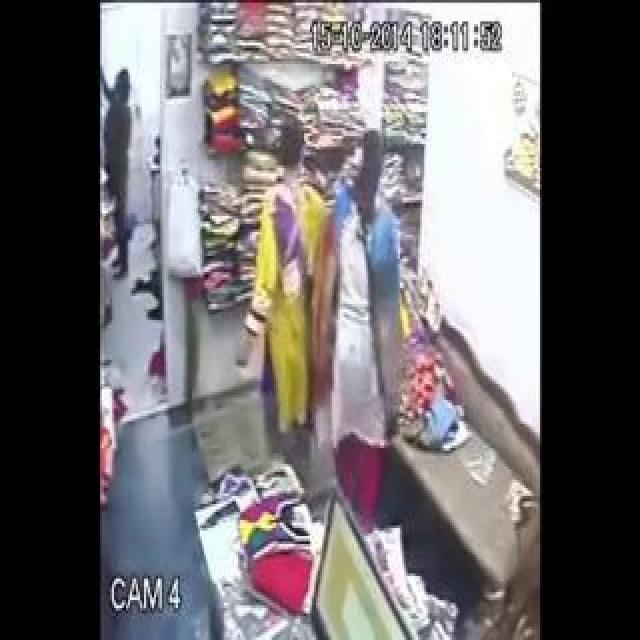Shoplifting: (317, 111, 413, 466)
